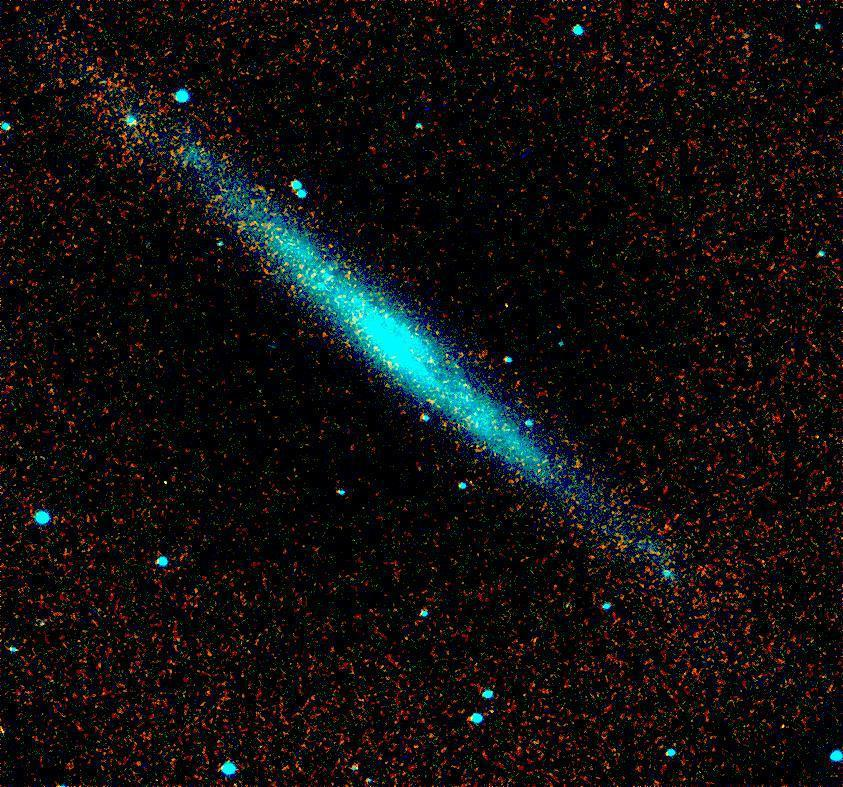star: (495, 293, 525, 323)
